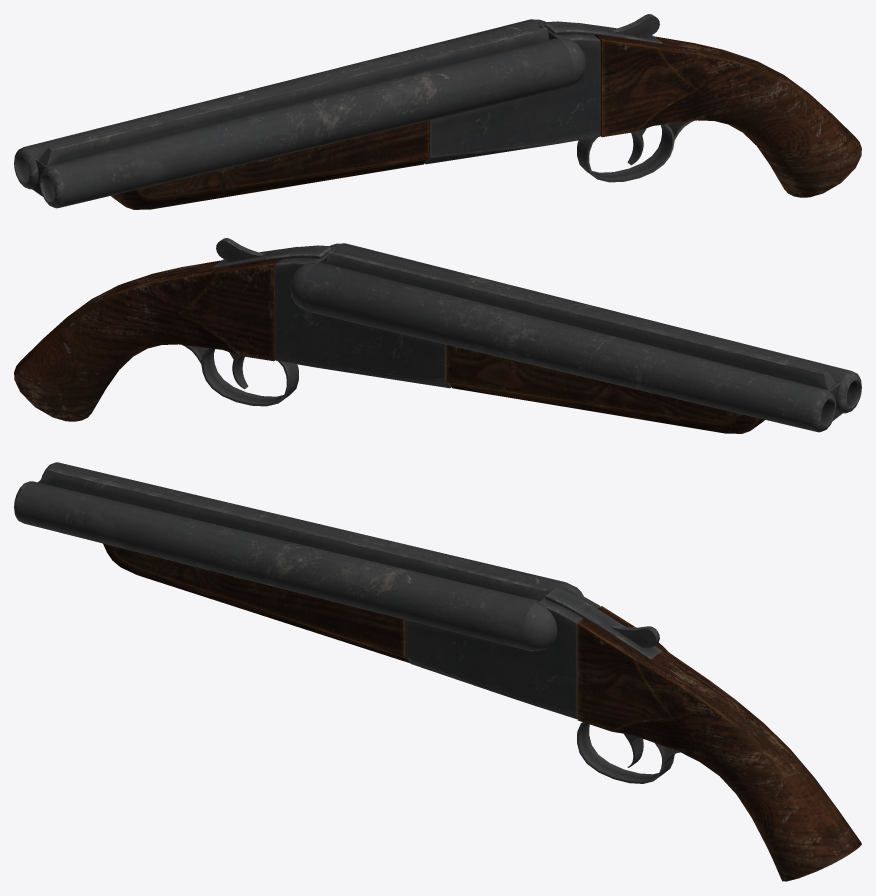
File: shawed_shotgun.glb
3 renders of one model, top to bottom at view 1: azimuth 30°, elevation 25°; view 2: azimuth 150°, elevation 25°; view 3: azimuth 330°, elevation 25°, orthographic.
Visible parts, largest first — view 1: Cylinder.003; view 2: Cylinder.003; view 3: Cylinder.003.
Boxes of the visible parts, x1,y1,x2,y2 form: Cylinder.003: (14,14,861,209); Cylinder.003: (14,238,861,433); Cylinder.003: (14,462,861,881).
Bounding box in the file's own units: 0.6159 × 0.1614 × 0.0668.
Materials: 1 (1 with a texture image).
